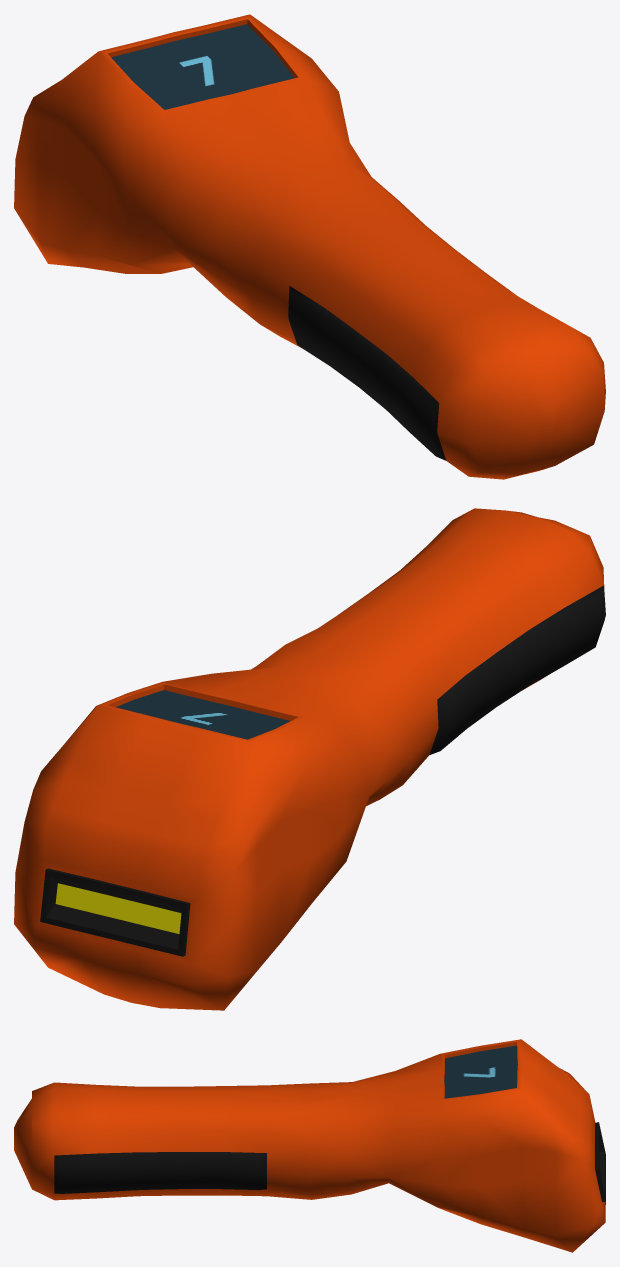
The model's file is TagGun.FBX.
3 renders of one model, top to bottom at view 1: azimuth 30°, elevation 25°; view 2: azimuth 150°, elevation 25°; view 3: azimuth 270°, elevation 25°, orthographic. The views are drawn at different scales.
Visible parts, largest first — view 1: TagGun; view 2: TagGun; view 3: TagGun.
Boxes of the visible parts, box(x1,y1,x2,y2) form: TagGun: box(14, 14, 605, 479); TagGun: box(14, 508, 605, 1010); TagGun: box(14, 1039, 605, 1252).
Bounding box in the file's own units: 6.3 × 6.92 × 22.26.
